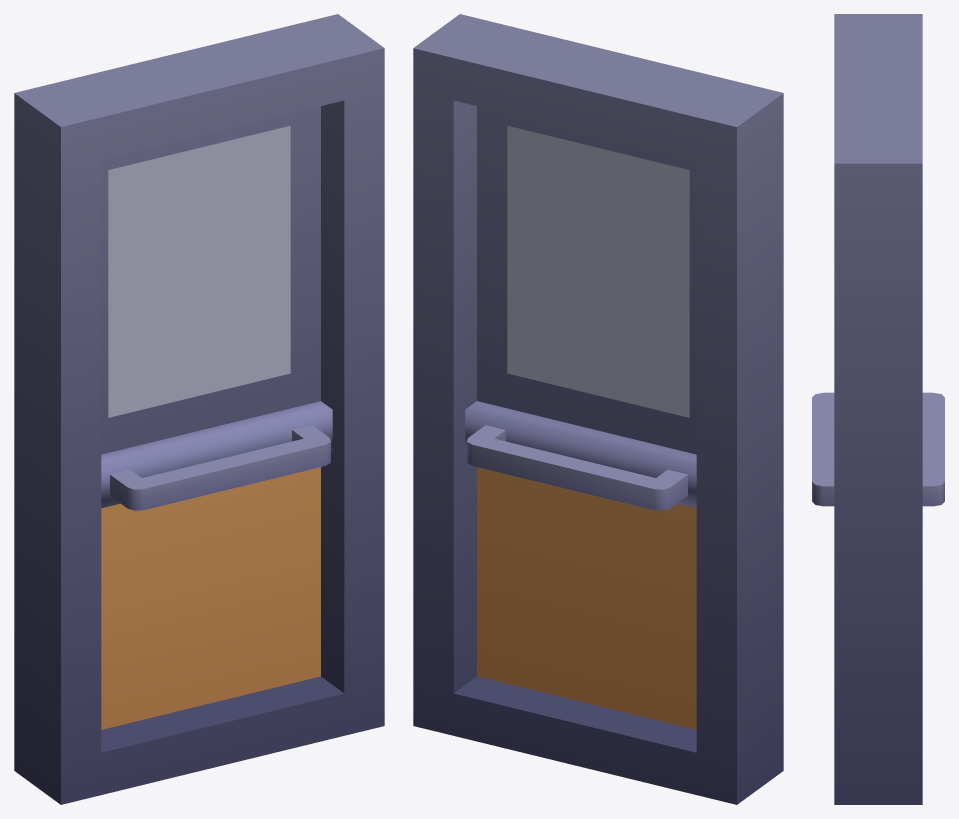
The model's file is kenney-factory-door.glb.
The picture shows the model from 3 angles, left to right: view 1: azimuth 30°, elevation 25°; view 2: azimuth 150°, elevation 25°; view 3: azimuth 270°, elevation 25°; orthographic projection. The views are drawn at different scales.
Parts seen in each view (by area): view 1: door; view 2: door; view 3: door.
Boxes of the visible parts, box(x1,y1,x2,y2) form: door: box(14, 14, 384, 804); door: box(413, 14, 783, 804); door: box(812, 14, 944, 804).
Bounding box in the file's own units: 1.2 × 2.4 × 0.45.
Materials: 1 (1 with a texture image).
